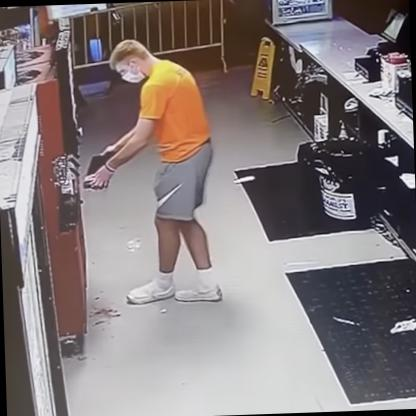Human Body: (74, 31, 228, 311)
